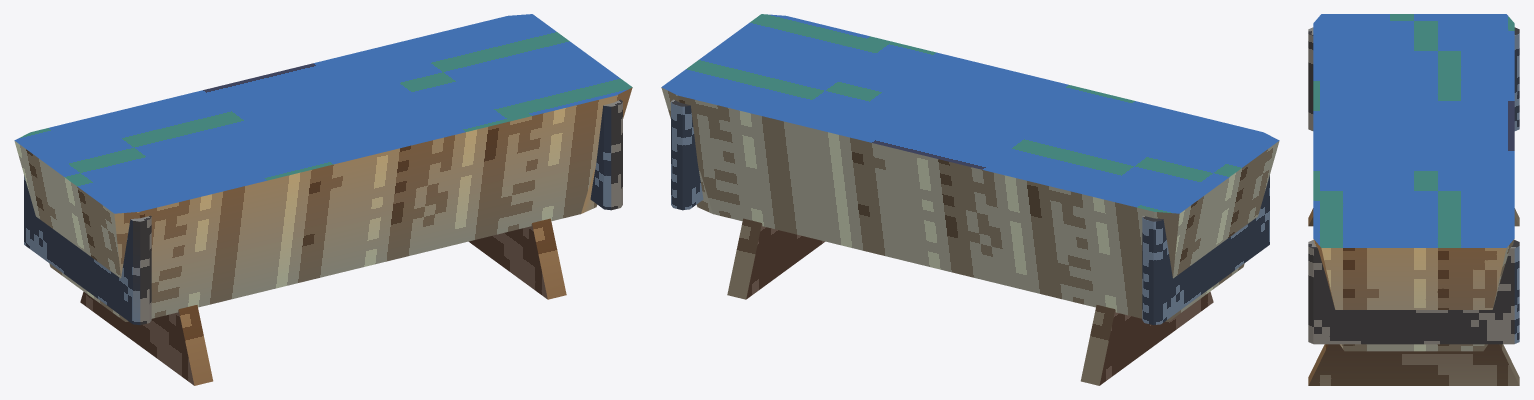
The model's file is wprop.trough.glb.
The picture shows the model from 3 angles, left to right: view 1: azimuth 30°, elevation 25°; view 2: azimuth 150°, elevation 25°; view 3: azimuth 270°, elevation 25°; orthographic projection. The views are drawn at different scales.
Visible parts, largest first — view 1: kit_trough, kit_bands, kit_legs; view 2: kit_trough, kit_bands, kit_legs; view 3: kit_trough, kit_bands, kit_legs.
Part boxes in pixels (x1,y1,x2,y2): kit_trough: (14,14,632,321); kit_bands: (24,99,622,325); kit_legs: (80,218,566,385); kit_trough: (661,14,1279,321); kit_bands: (671,99,1269,325); kit_legs: (727,218,1213,385); kit_trough: (1313,14,1514,351); kit_bands: (1308,27,1519,344); kit_legs: (1308,208,1519,385).
Bounding box in the file's own units: 2.2 × 0.75 × 0.84.
4 materials, 4 textured.
